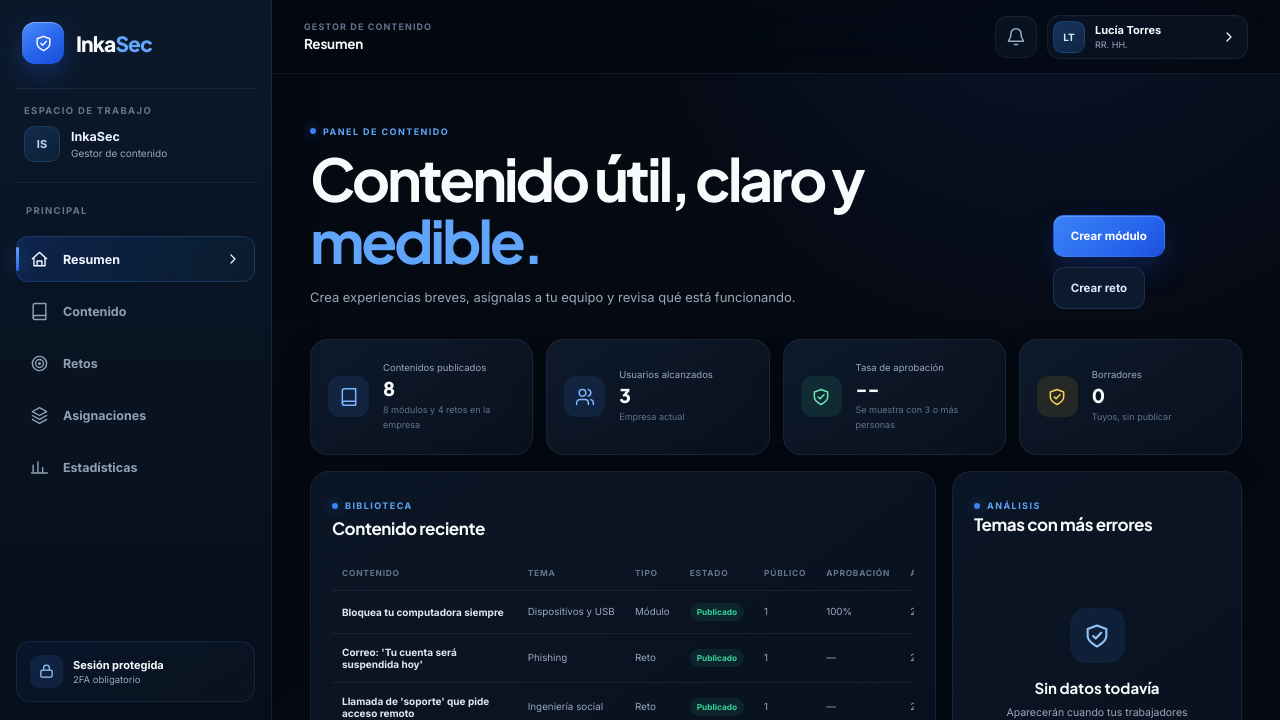
Test: gestor de contenido › avisa si no se puede abrir un contenido para editar
The image size is (1280, 720).
Expected: the heading "Contenido útil, claro y medible." is shown, [310,141,863,276]
Click the button "Contenido": [136, 311] box [16,288,255,334]
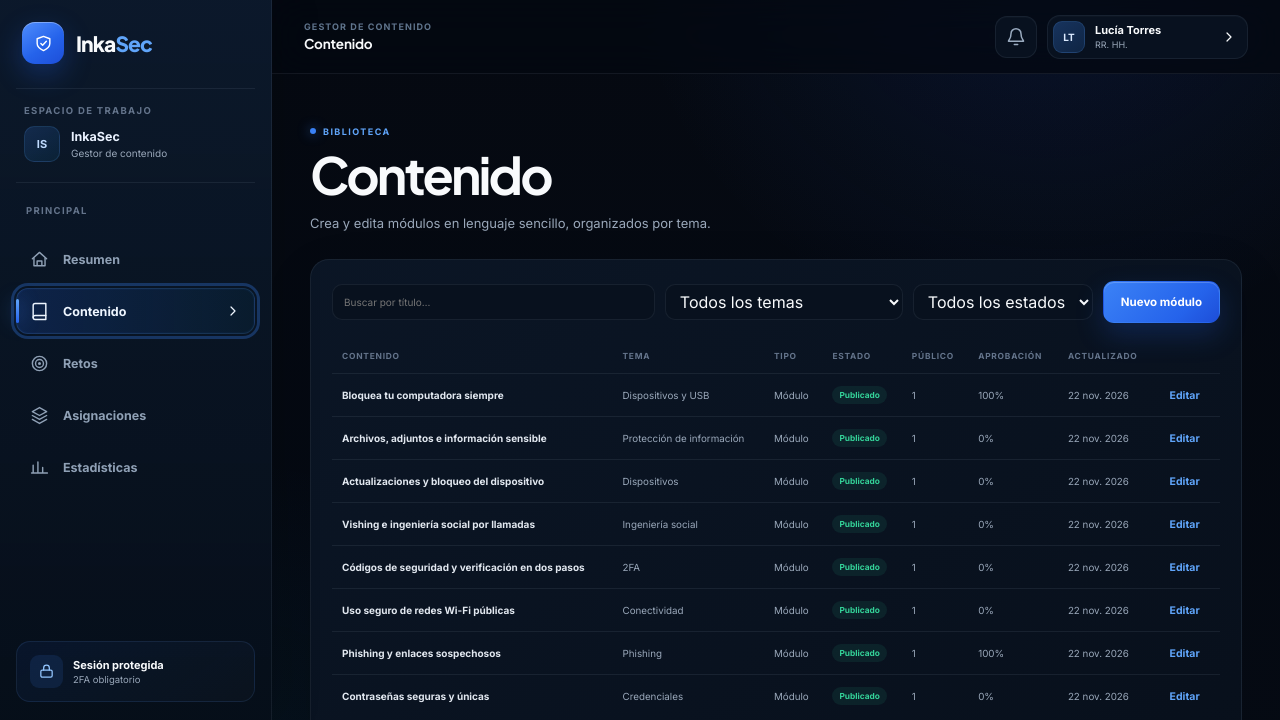
Click the button "Editar" in the row of "Bloquea tu computadora siempre": [1185, 395] box [1164,388,1206,403]
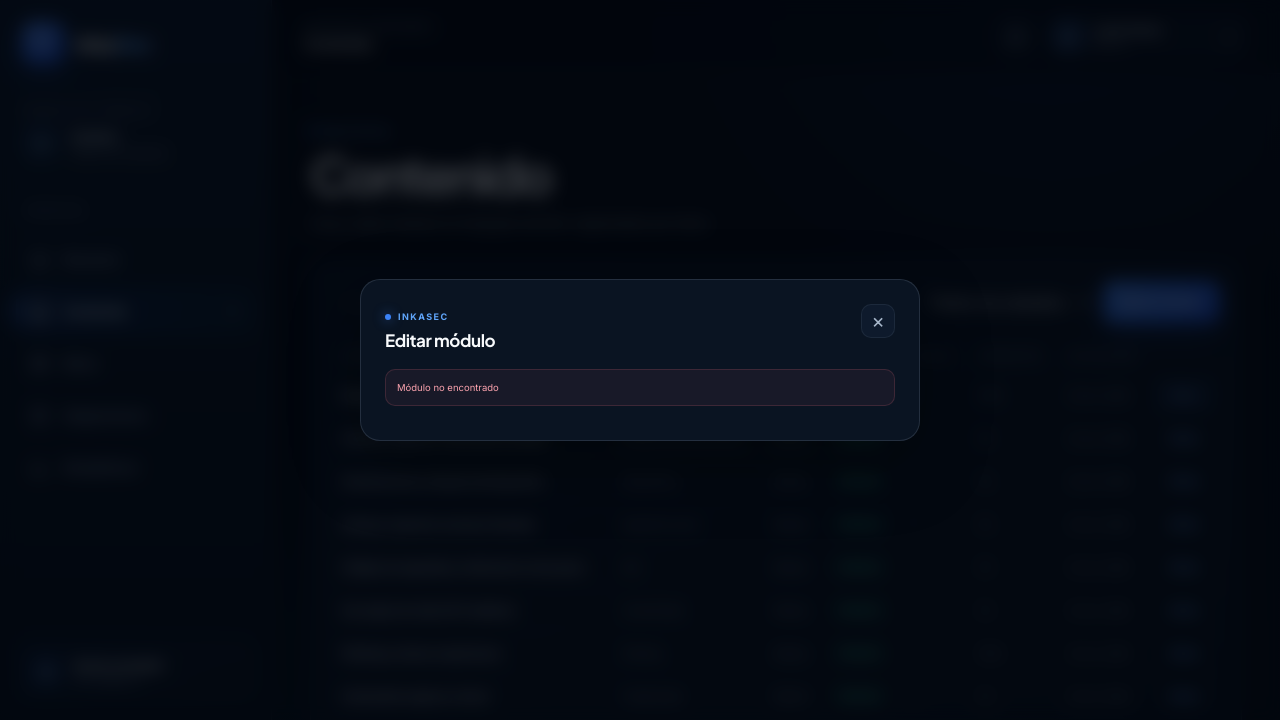
Expected: the text "Módulo no encontrado" is shown, [385,368,895,406]
